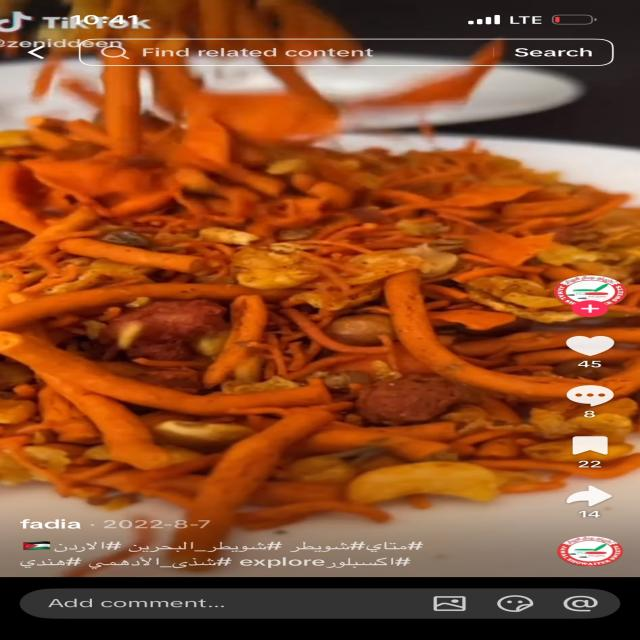Mattai: (0, 57, 640, 527)
